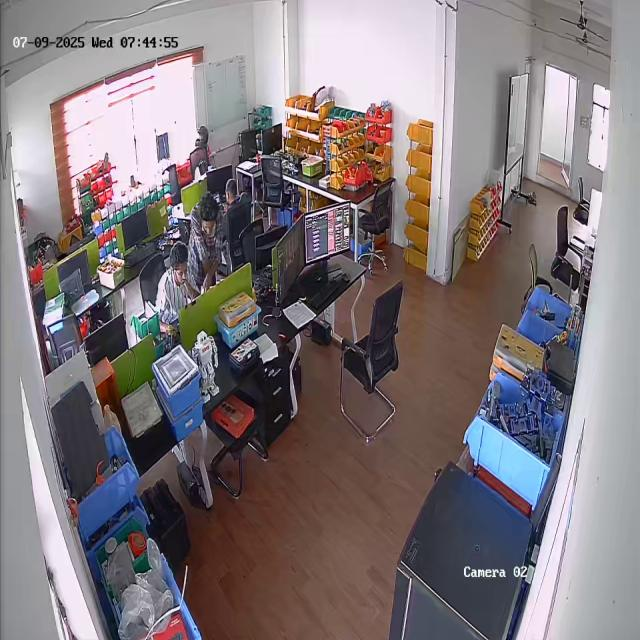person: (154, 240, 198, 330), (188, 195, 225, 290), (222, 179, 250, 215)
